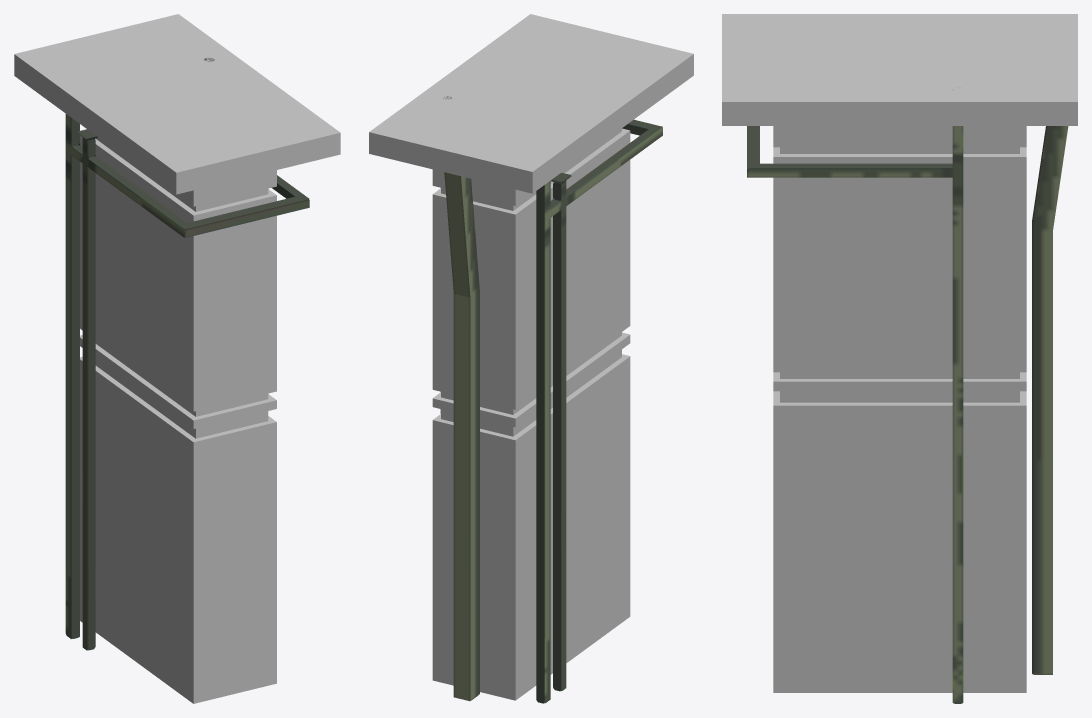
File: Pillar_Model_1.fbx
3 renders of one model, left to right at view 1: azimuth 30°, elevation 25°; view 2: azimuth 150°, elevation 25°; view 3: azimuth 270°, elevation 25°, orthographic. The views are drawn at different scales.
Parts seen in each view (by area): view 1: cuboid, cuboid_1; view 2: cuboid, cuboid_1, cuboid_2; view 3: cuboid, cuboid_2, cuboid_1.
Boxes of the visible parts, left/top/right/bottom form: cuboid: left=14, top=14, right=340, bottom=703; cuboid_1: left=65, top=58, right=309, bottom=650; cuboid: left=369, top=14, right=693, bottom=700; cuboid_1: left=440, top=96, right=662, bottom=703; cuboid_2: left=444, top=172, right=479, bottom=701; cuboid: left=722, top=14, right=1077, bottom=692; cuboid_2: left=1032, top=126, right=1068, bottom=674; cuboid_1: left=747, top=126, right=963, bottom=703.
Bounding box in the file's own units: 246 × 806 × 421.
